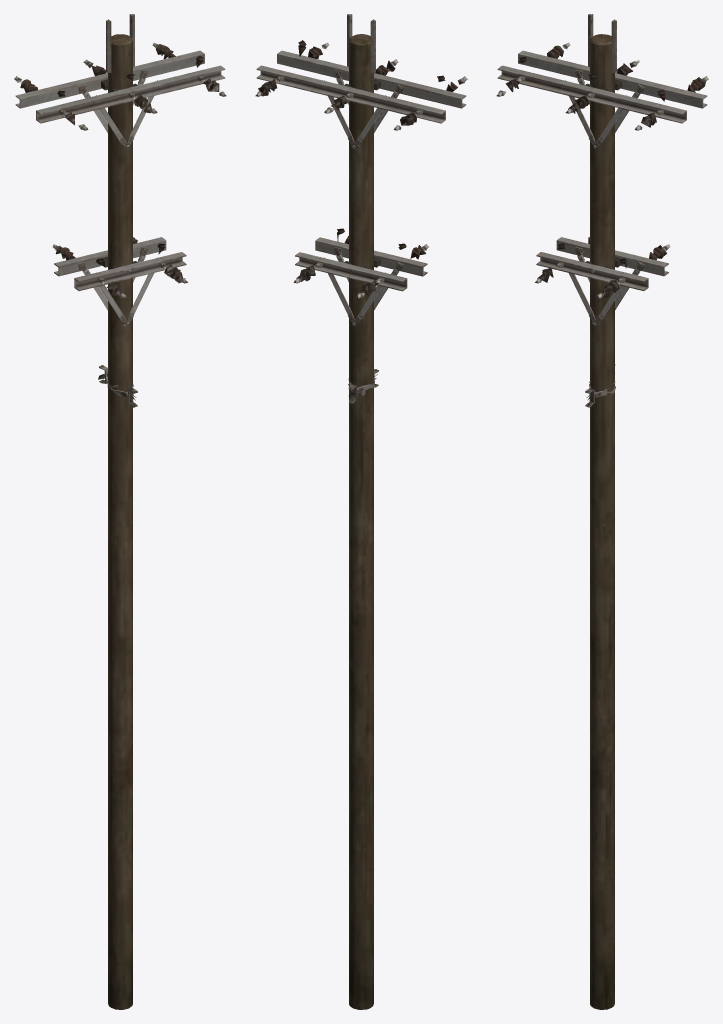
Rendered from poteau_electrique_b_lod1.glb.
3 renders of one model, left to right at view 1: azimuth 30°, elevation 25°; view 2: azimuth 150°, elevation 25°; view 3: azimuth 330°, elevation 25°, orthographic.
Parts seen in each view (by area): view 1: preset_02_pole, preset_02_cap; view 2: preset_02_pole, preset_02_cap; view 3: preset_02_pole, preset_02_cap.
Boxes of the visible parts, x1=… form: preset_02_pole: x1=108, y1=34, x2=132, y2=1009; preset_02_cap: x1=14, y1=14, x2=226, y2=407; preset_02_pole: x1=349, y1=34, x2=373, y2=1009; preset_02_cap: x1=255, y1=14, x2=467, y2=403; preset_02_pole: x1=590, y1=34, x2=614, y2=1009; preset_02_cap: x1=496, y1=14, x2=708, y2=407.
Size of the model in its own units: 1.2 by 6.13 by 0.7935.
Materials: 2 (2 with a texture image).
